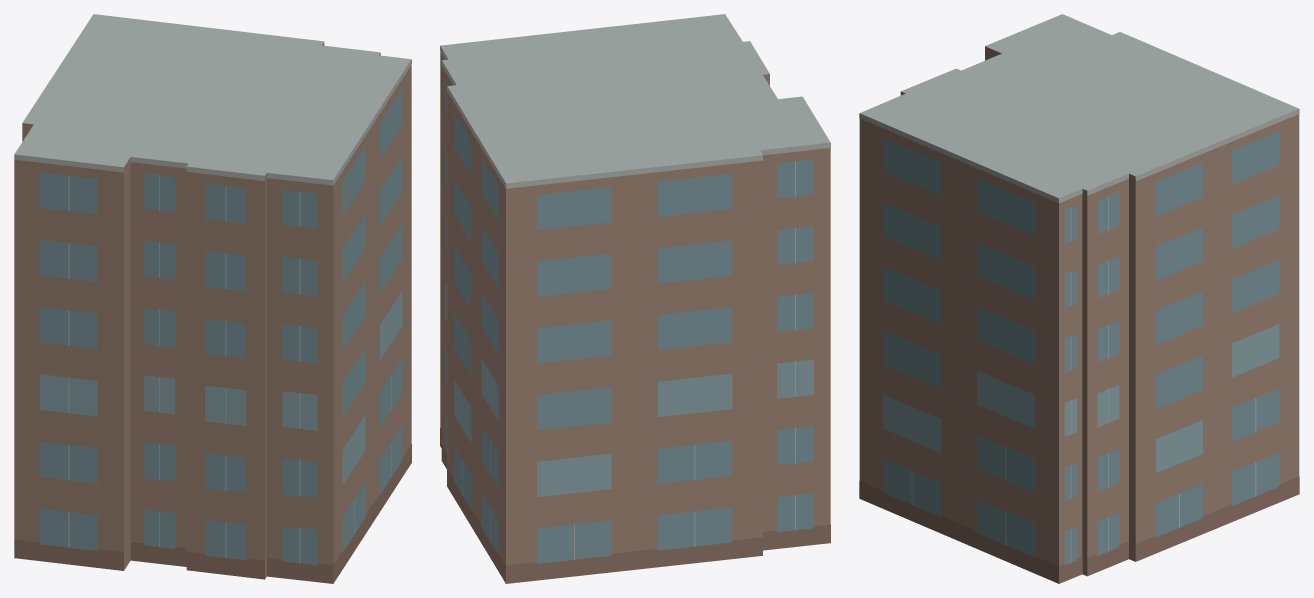
Rendered from survey-upis-32495243.glb.
The picture shows the model from 3 angles, left to right: view 1: azimuth 30°, elevation 25°; view 2: azimuth 150°, elevation 25°; view 3: azimuth 270°, elevation 25°; orthographic projection. The views are drawn at different scales.
Visible parts, largest first — view 1: survey-upis-32495243.tmp; view 2: survey-upis-32495243.tmp; view 3: survey-upis-32495243.tmp.
Part boxes in pixels (x1,y1,x2,y2): survey-upis-32495243.tmp: (14, 14, 411, 583); survey-upis-32495243.tmp: (440, 14, 830, 583); survey-upis-32495243.tmp: (859, 14, 1299, 583).
Size of the model in its own units: 19.09 by 18.6 by 19.24.
